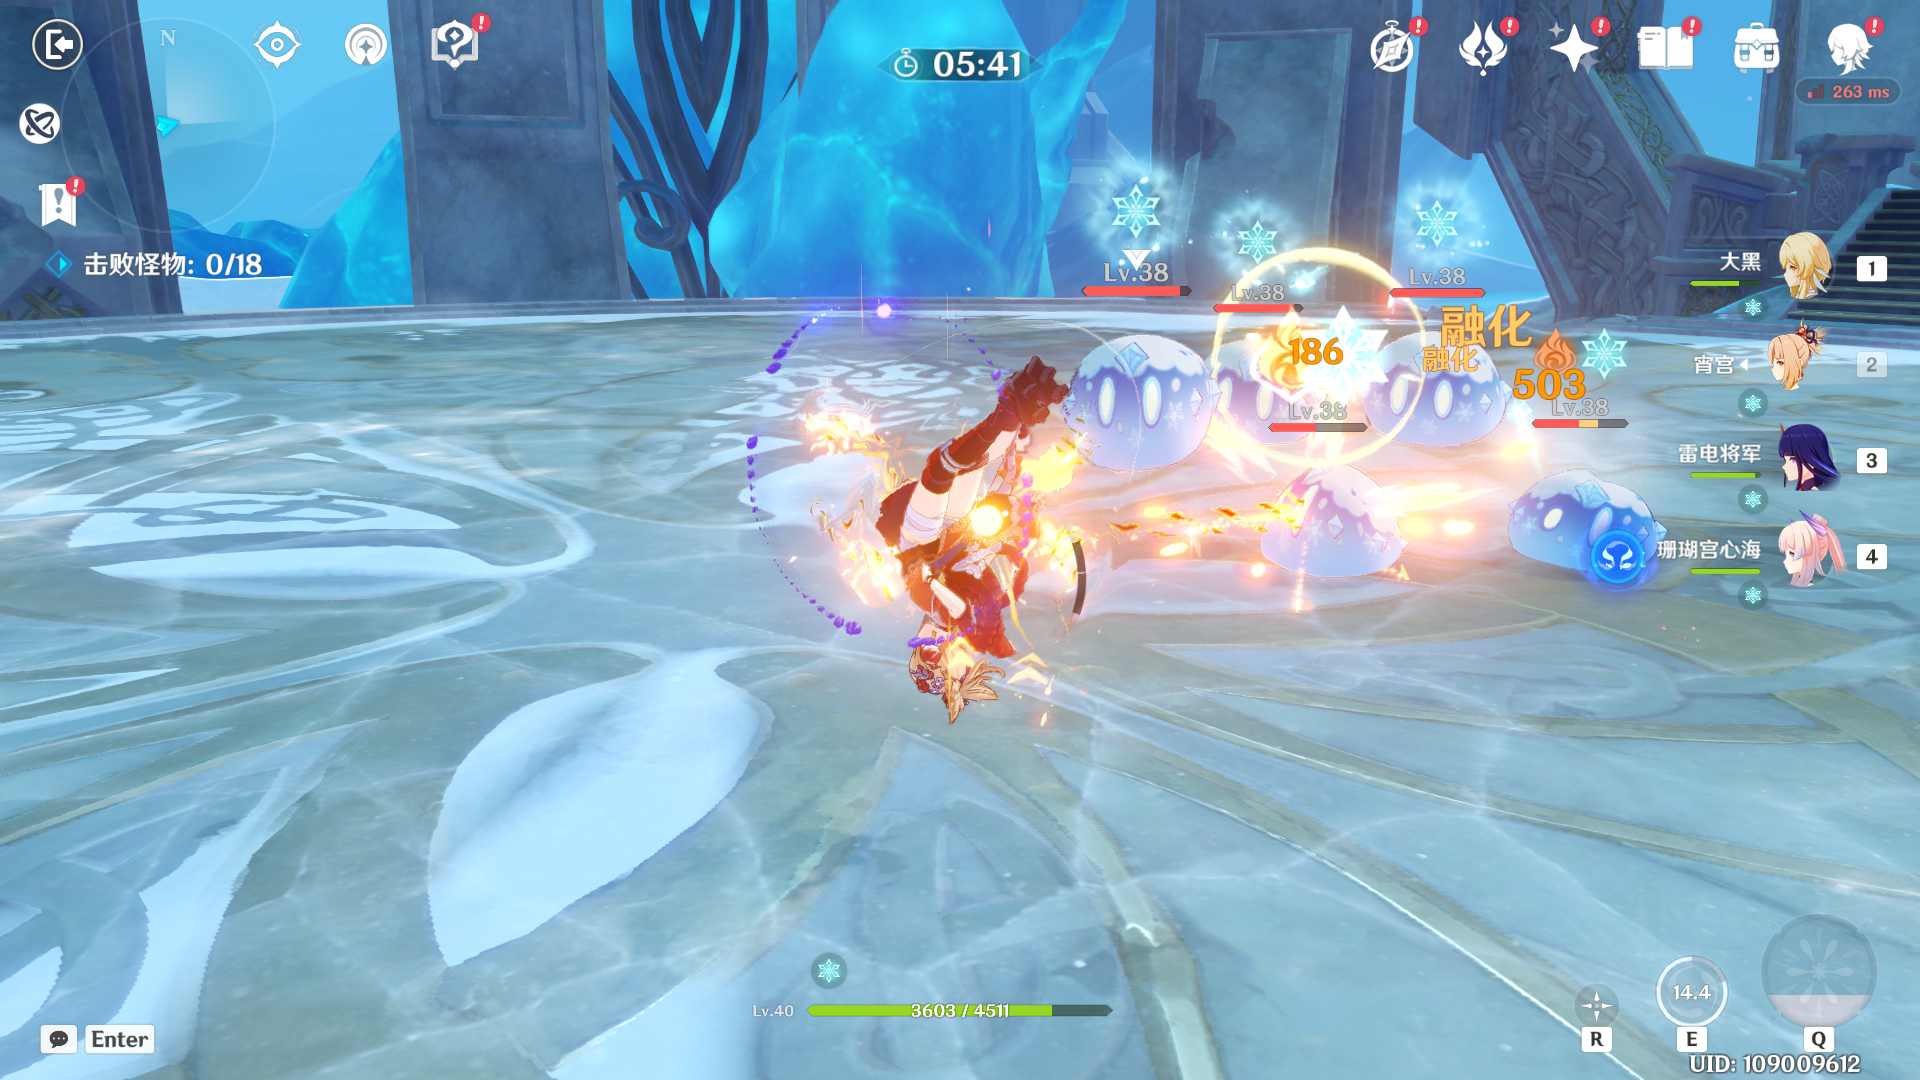character: (796, 356, 1118, 764)
slime: (1497, 448, 1693, 624), (1040, 313, 1208, 496), (1354, 310, 1534, 467), (1251, 458, 1411, 603), (1175, 324, 1323, 467)
